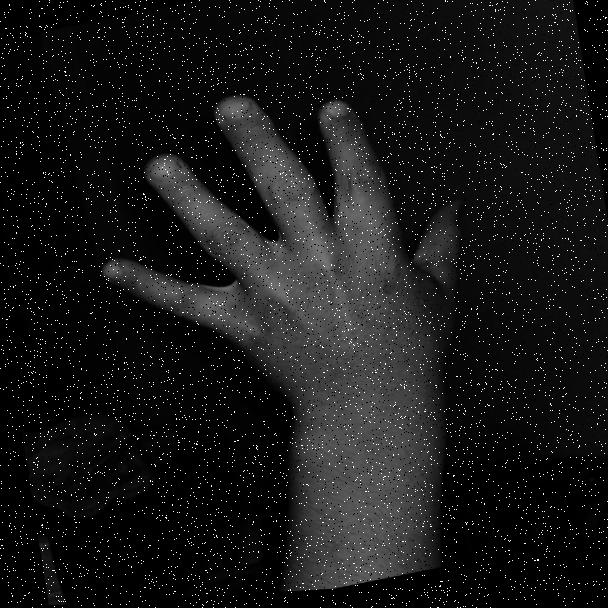five: (68, 49, 494, 452)
